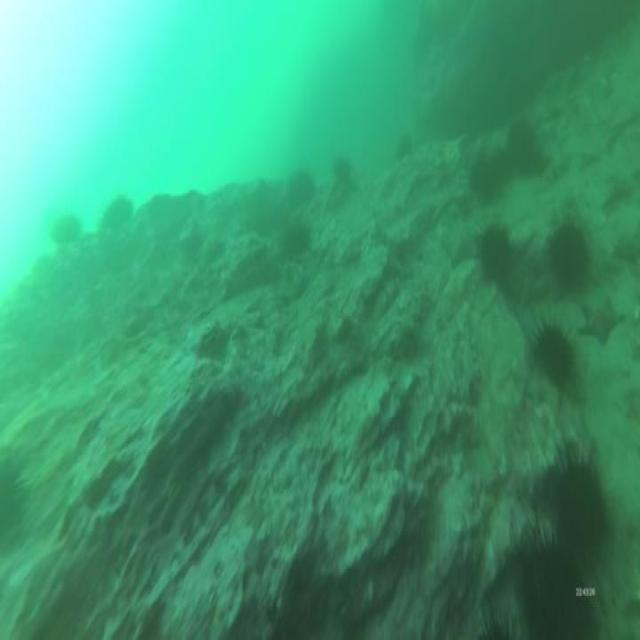echinus: (514, 528, 593, 640), (542, 439, 612, 556), (526, 308, 579, 395), (544, 214, 592, 296), (0, 452, 31, 550), (474, 216, 514, 291), (466, 602, 525, 640), (503, 115, 538, 174), (465, 149, 500, 207), (98, 190, 135, 237), (279, 215, 312, 262), (48, 212, 84, 253), (287, 163, 317, 205), (327, 150, 355, 187), (394, 132, 414, 164)
starfish: (575, 294, 628, 351)
